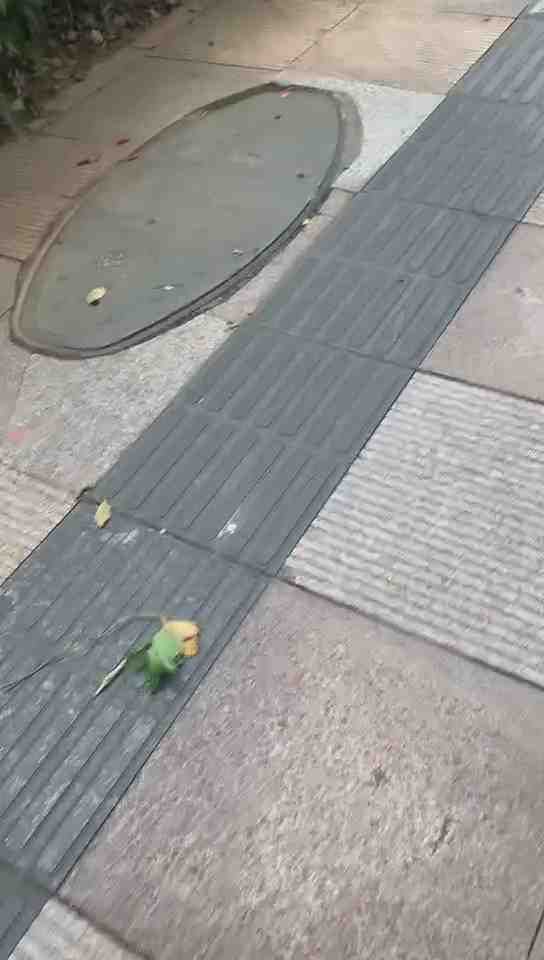leaf: (91, 497, 118, 531), (83, 283, 108, 306)
